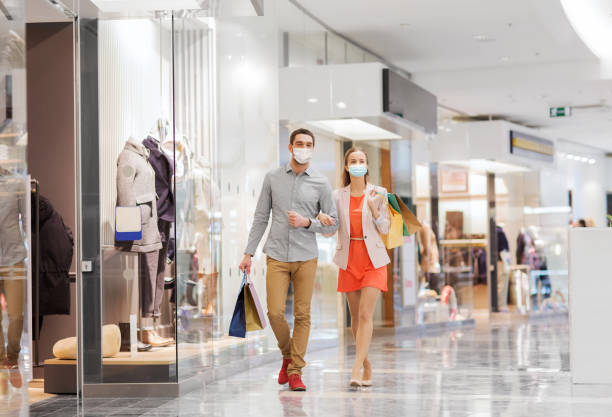with mask: (288, 132, 315, 164), (344, 146, 371, 178)
